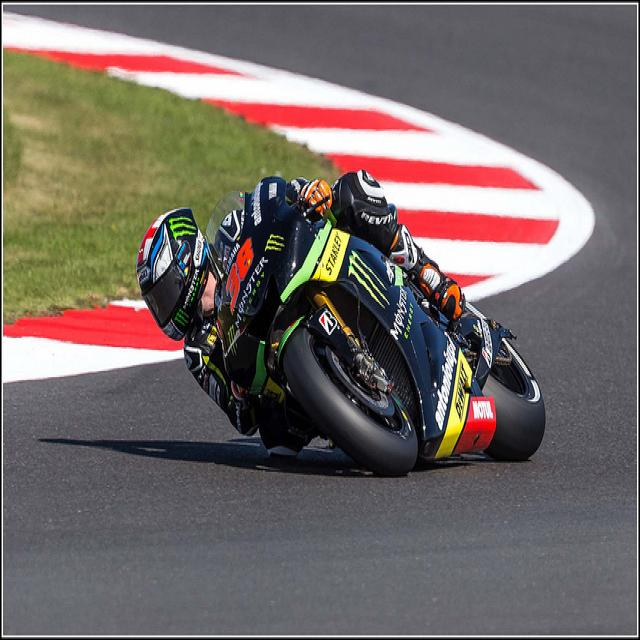motor: (202, 175, 548, 475)
